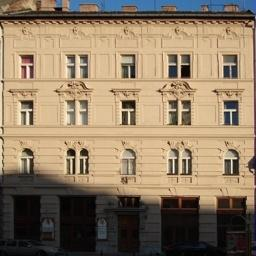building: (3, 11, 256, 242)
